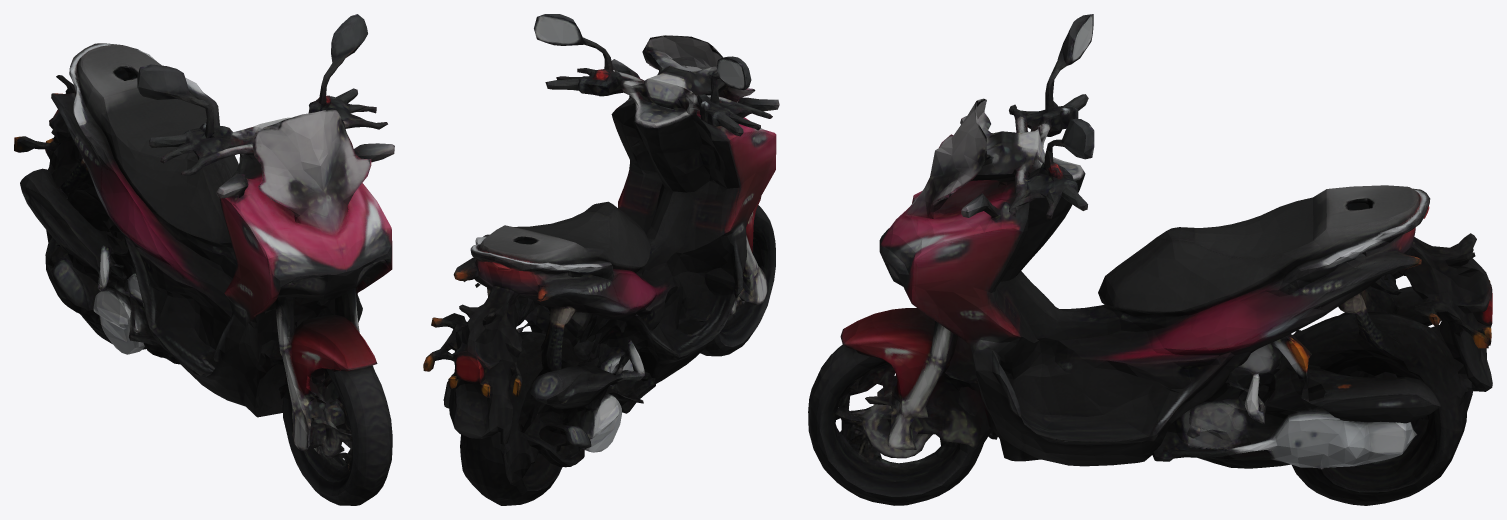
The model's file is CTV 150.glb.
The picture shows the model from 3 angles, left to right: view 1: azimuth 30°, elevation 25°; view 2: azimuth 150°, elevation 25°; view 3: azimuth 270°, elevation 25°; orthographic projection. The views are drawn at different scales.
Parts seen in each view (by area): view 1: world; view 2: world; view 3: world.
Part boxes in pixels (x1=…): world: x1=14, y1=14, x2=394, y2=505; world: x1=423, y1=14, x2=779, y2=505; world: x1=808, y1=14, x2=1492, y2=505.
Bounding box in the file's own units: 0.4229 × 0.6994 × 1.
Materials: 1 (1 with a texture image).
